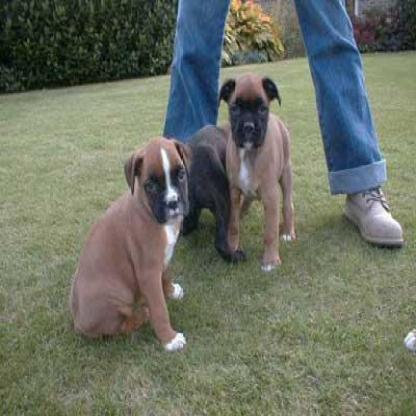boxer: (67, 133, 194, 351), (210, 61, 298, 272)
